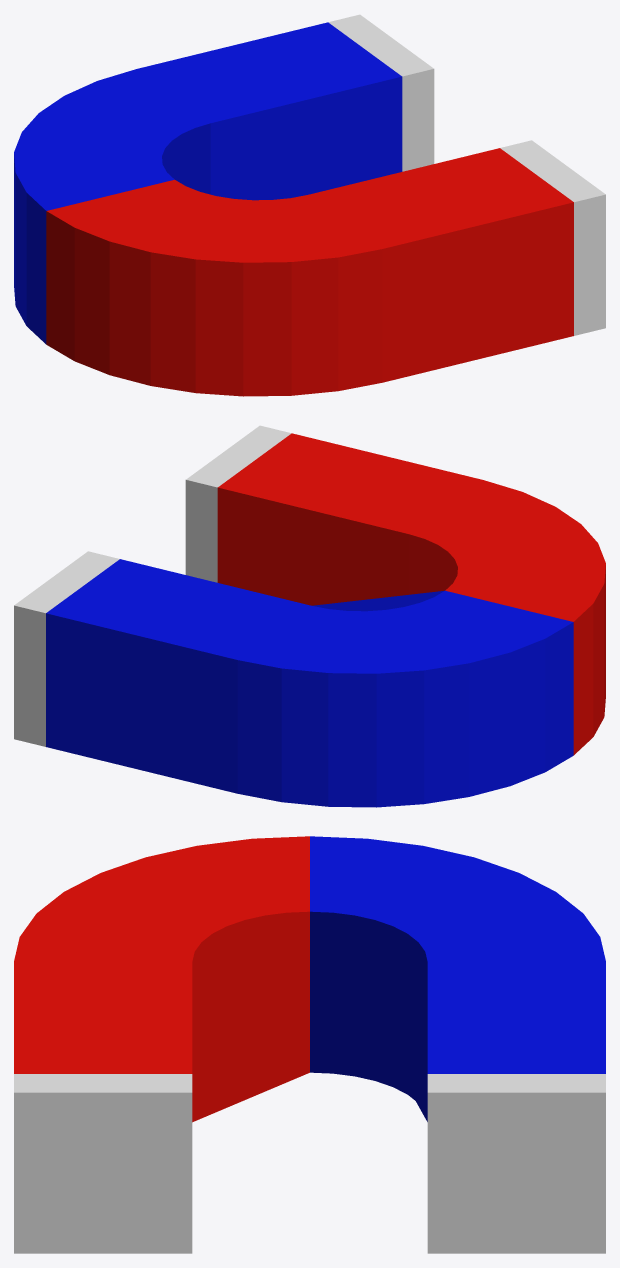
The model's file is magnet.fbx.
3 renders of one model, top to bottom at view 1: azimuth 30°, elevation 25°; view 2: azimuth 150°, elevation 25°; view 3: azimuth 270°, elevation 25°, orthographic. The views are drawn at different scales.
Visible parts, largest first — view 1: Cylinder; view 2: Cylinder; view 3: Cylinder.
Part boxes in pixels (x1,y1,x2,y2): Cylinder: [14, 14, 605, 396]; Cylinder: [14, 425, 605, 807]; Cylinder: [14, 836, 605, 1253].
Size of the model in its own units: 205 by 60 by 200.
